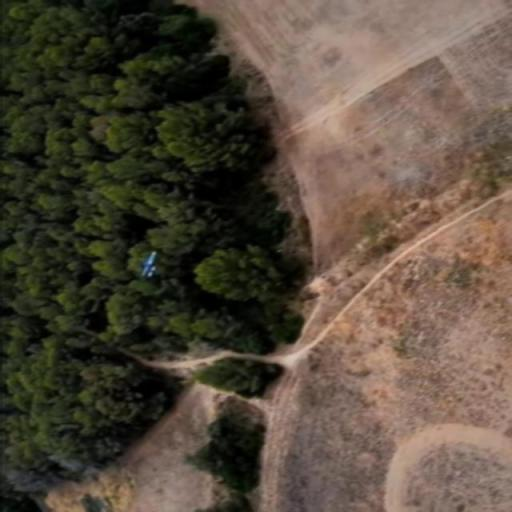uav: (140, 250, 161, 277)
